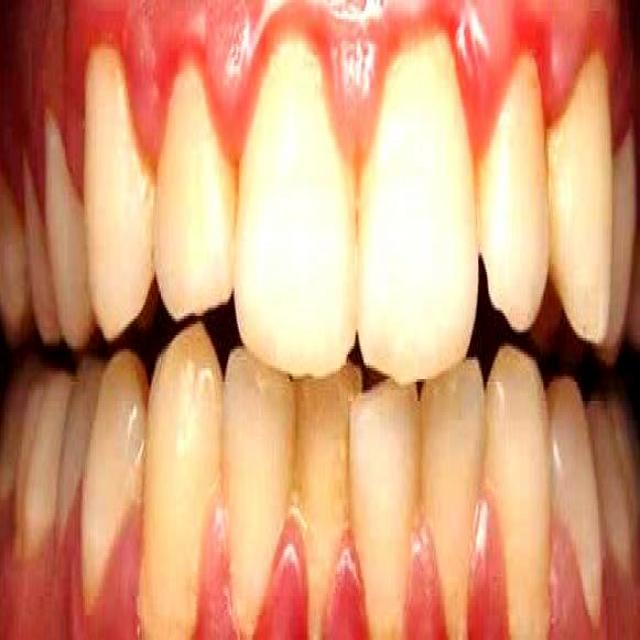gingivitis: (15, 0, 628, 159)
